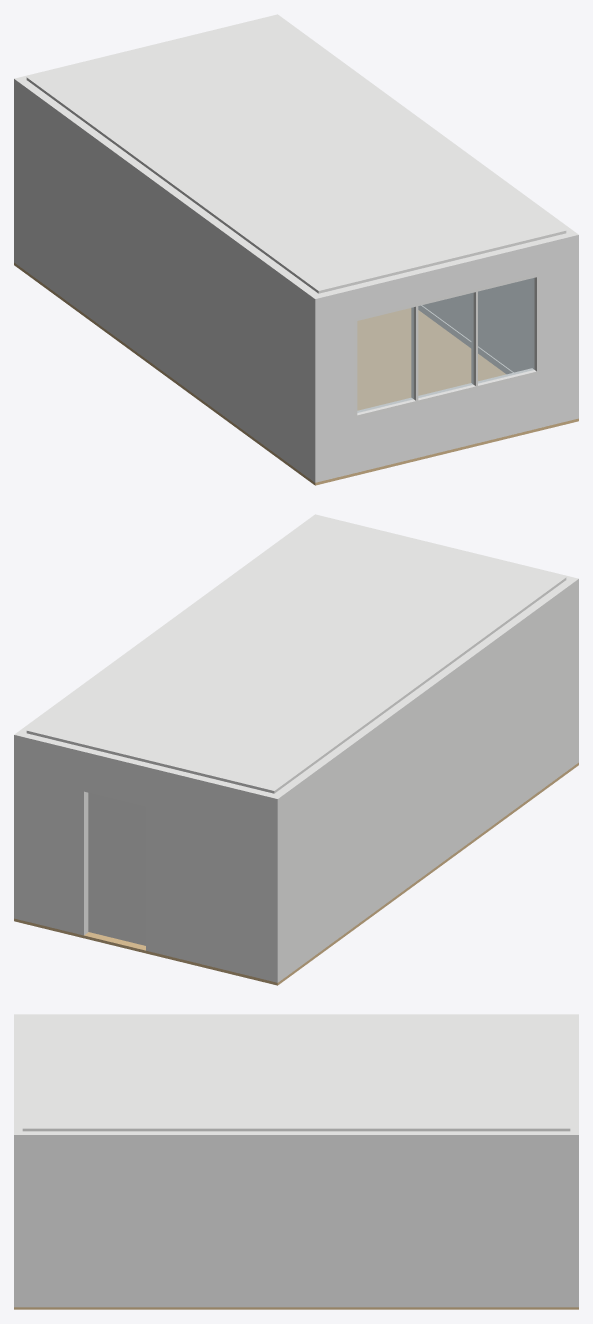
3 views of the same model, one above another, from view 1: azimuth 30°, elevation 25°; view 2: azimuth 150°, elevation 25°; view 3: azimuth 270°, elevation 25° (orthographic). The views are drawn at different scales.
Parts seen in each view (by area): view 1: Ceiling, Wall_W, Wall_S, Window_S, Floor, Wall_E, Baseboard, Wall_N; view 2: Ceiling, Wall_W, Wall_N, Door_Entry, Wall_E, Floor, Wall_S; view 3: Wall_E, Ceiling, Floor, Wall_W, Wall_S, Wall_N.
Boxes of the visible parts, bbox=[...] form: Ceiling: bbox=[26, 17, 566, 293]; Wall_W: bbox=[14, 77, 323, 482]; Wall_S: bbox=[319, 233, 570, 480]; Window_S: bbox=[354, 273, 539, 419]; Floor: bbox=[14, 262, 578, 485]; Wall_E: bbox=[270, 14, 578, 420]; Baseboard: bbox=[418, 305, 513, 373]; Wall_N: bbox=[22, 16, 271, 79]; Ceiling: bbox=[26, 517, 566, 793]; Wall_W: bbox=[269, 577, 578, 982]; Wall_N: bbox=[22, 733, 273, 980]; Door_Entry: bbox=[88, 792, 145, 945]; Wall_E: bbox=[14, 514, 322, 920]; Floor: bbox=[14, 762, 578, 985]; Wall_S: bbox=[321, 516, 570, 579]; Wall_E: bbox=[14, 1131, 578, 1307]; Ceiling: bbox=[22, 1015, 570, 1131]; Floor: bbox=[14, 1307, 578, 1309]; Wall_W: bbox=[14, 1014, 578, 1017]; Wall_S: bbox=[14, 1018, 22, 1131]; Wall_N: bbox=[570, 1018, 578, 1131].
Size of the model in its own units: 3.9 by 2.67 by 7.71.
